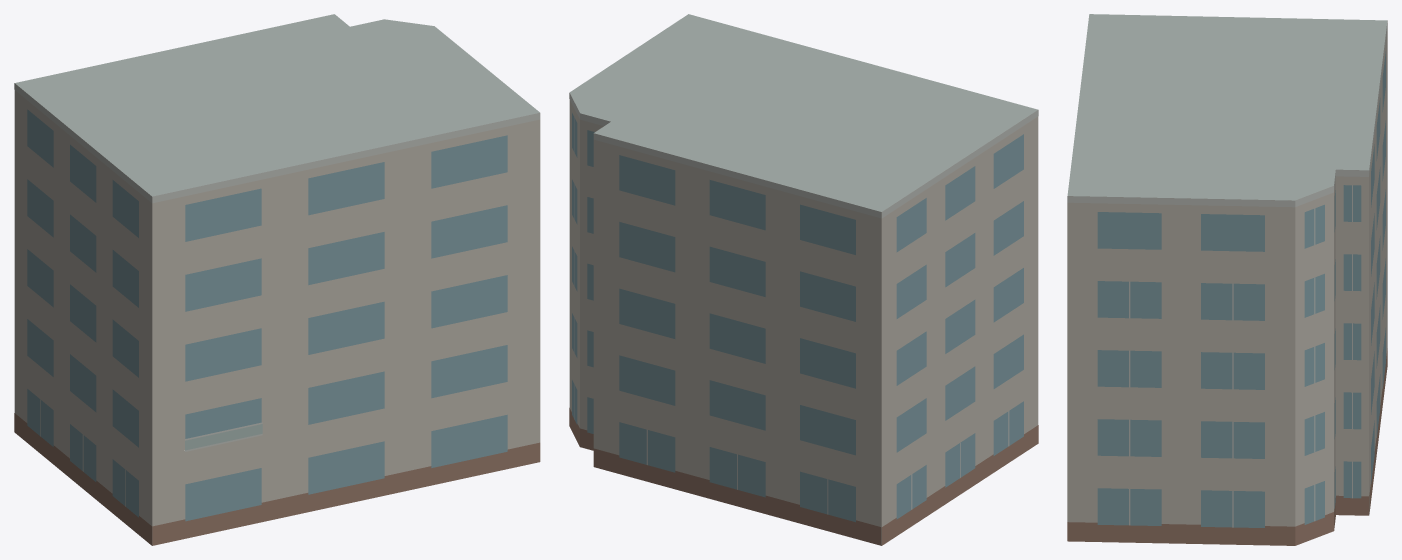
Rendered from survey-upis-32980147.glb.
The picture shows the model from 3 angles, left to right: view 1: azimuth 30°, elevation 25°; view 2: azimuth 150°, elevation 25°; view 3: azimuth 270°, elevation 25°; orthographic projection. The views are drawn at different scales.
Parts seen in each view (by area): view 1: survey-upis-32980147.tmp; view 2: survey-upis-32980147.tmp; view 3: survey-upis-32980147.tmp.
Boxes of the visible parts, box(x1,y1,x2,y2) form: survey-upis-32980147.tmp: box(14, 14, 540, 545); survey-upis-32980147.tmp: box(569, 14, 1038, 545); survey-upis-32980147.tmp: box(1067, 14, 1387, 545).
Bounding box in the file's own units: 14.6 × 12.6 × 10.59.
